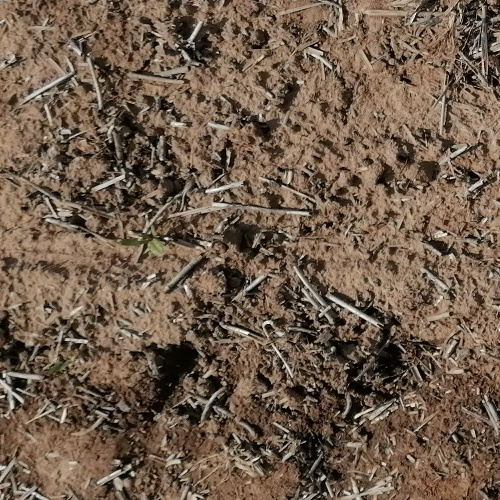beet: (121, 233, 165, 256)
